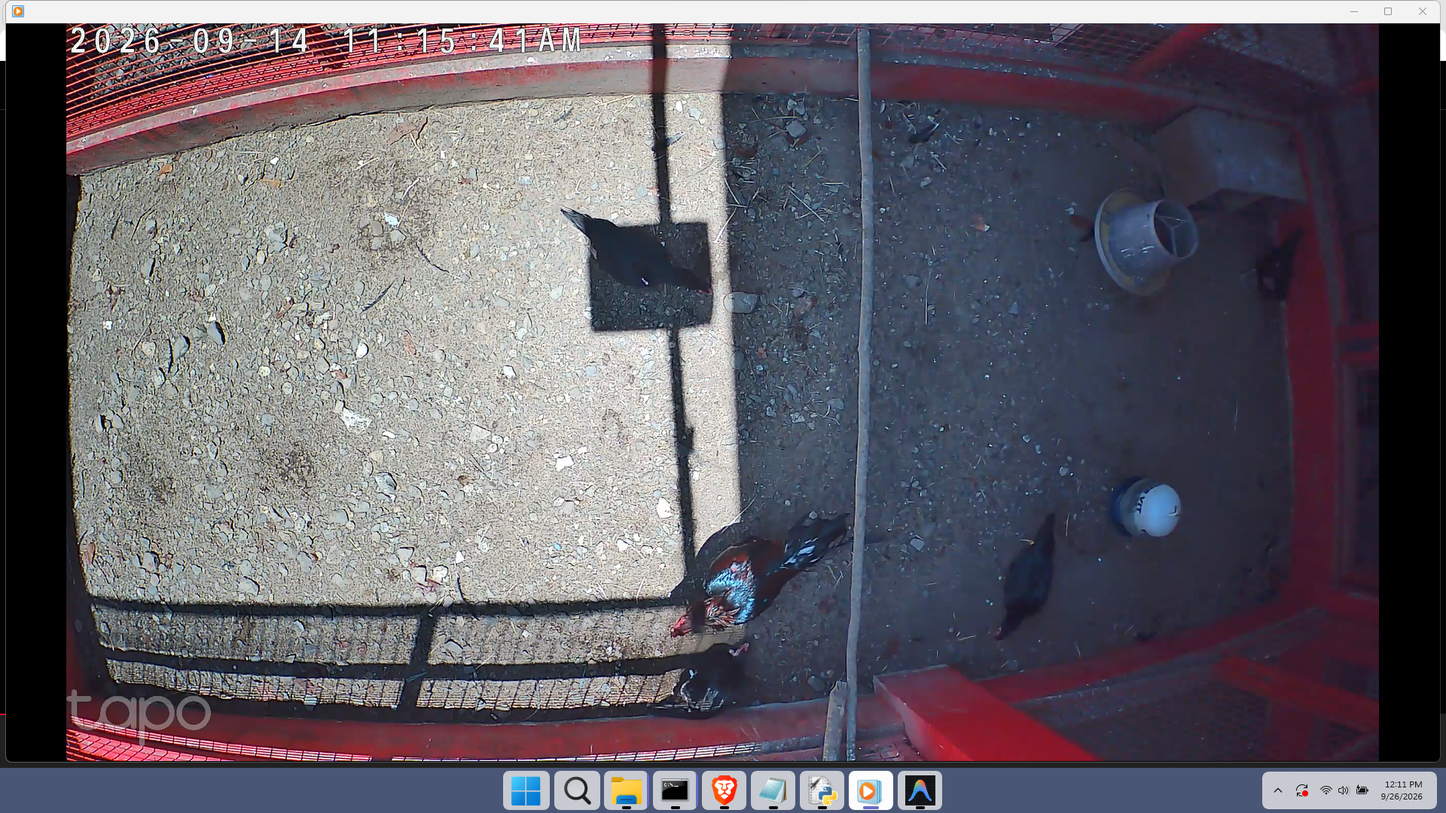Chicken: (561, 207, 720, 302), (647, 637, 754, 721), (992, 511, 1057, 640), (1238, 224, 1308, 305)
Drinker: (1109, 475, 1185, 541)
Feeder: (1094, 185, 1201, 301)
Leg_Band_White: (688, 667, 694, 678)
Rooster: (662, 505, 852, 643)
